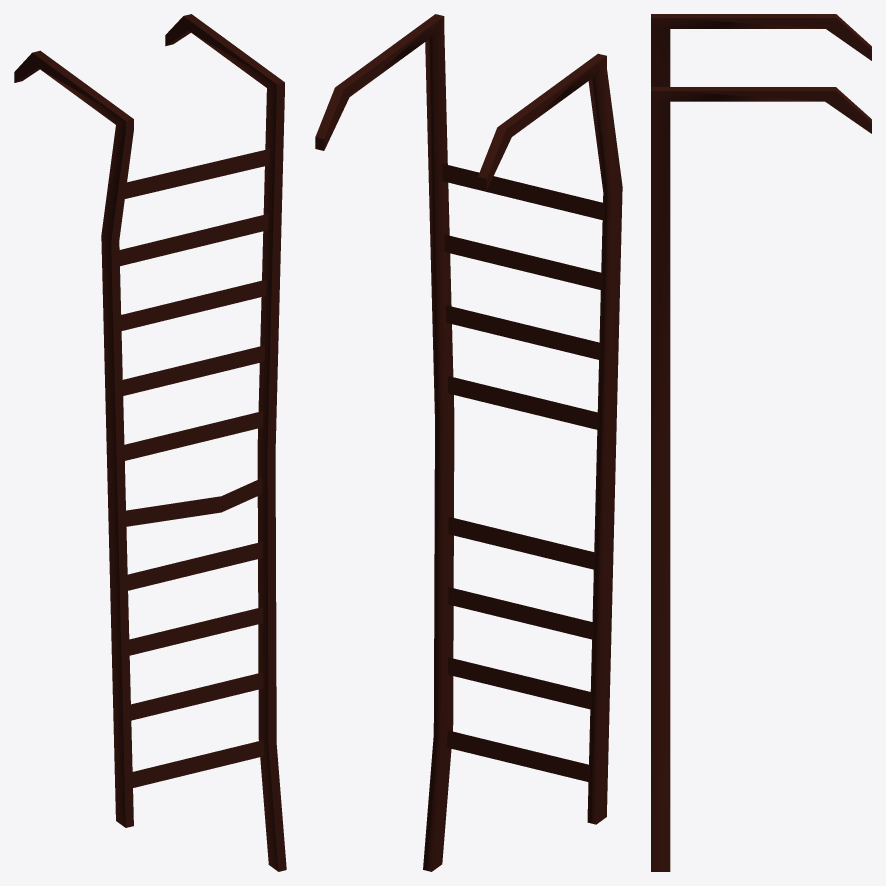
The model's file is Ladder.glb.
3 views of the same model, side by side, from view 1: azimuth 30°, elevation 25°; view 2: azimuth 150°, elevation 25°; view 3: azimuth 270°, elevation 25° (orthographic). The views are drawn at different scales.
Parts seen in each view (by area): view 1: ladder; view 2: ladder; view 3: ladder.
Boxes of the visible parts, x1,y1,x2,y2 form: ladder: (14, 14, 286, 871); ladder: (315, 14, 622, 871); ladder: (651, 14, 871, 871).
Size of what is drawn, in the model's own units: 0.7503 by 3.22 by 0.8252.
Materials: 1 (1 with a texture image).
